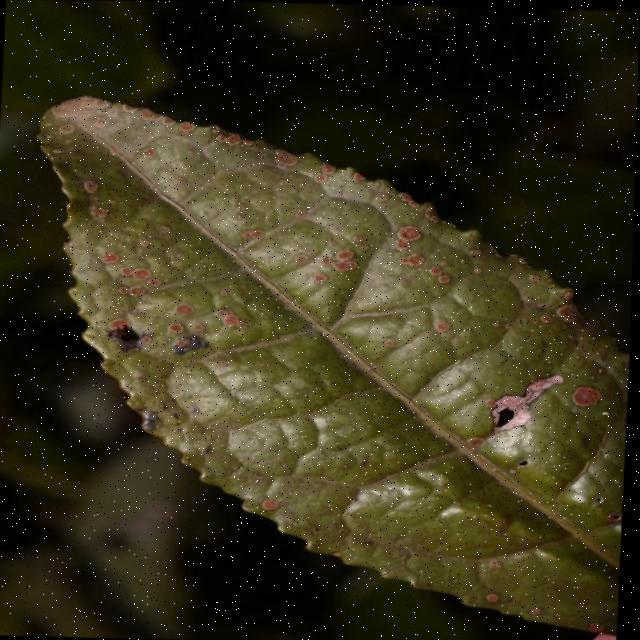Tea algae leaf spot: (27, 102, 595, 460)
